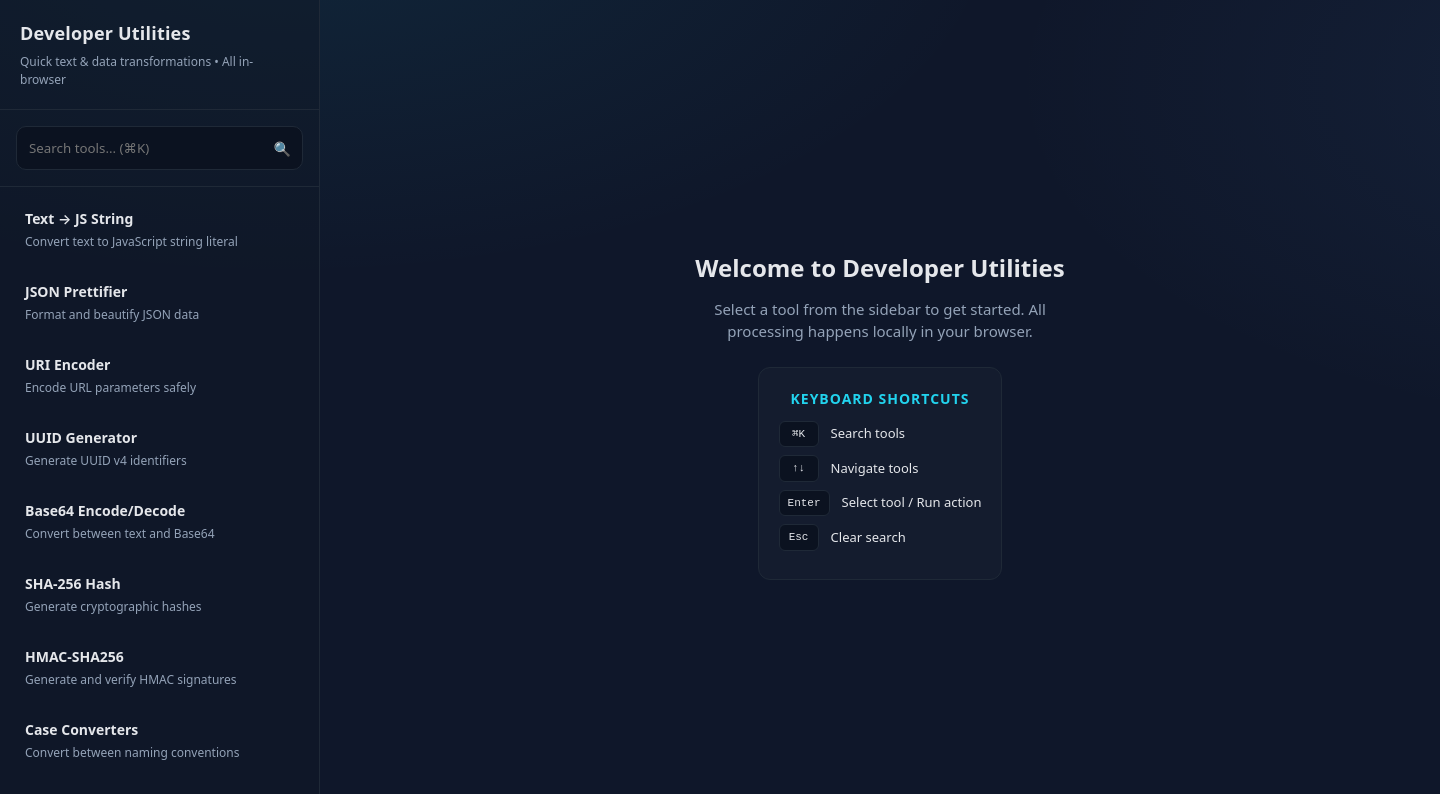
Test case: App › opens tool when clicked
What coordinates should you click on to do the following:
click the heading "JSON Prettifier"
I would click on:
 (76, 292)
Its box is x1=25 y1=282 x2=127 y2=301.
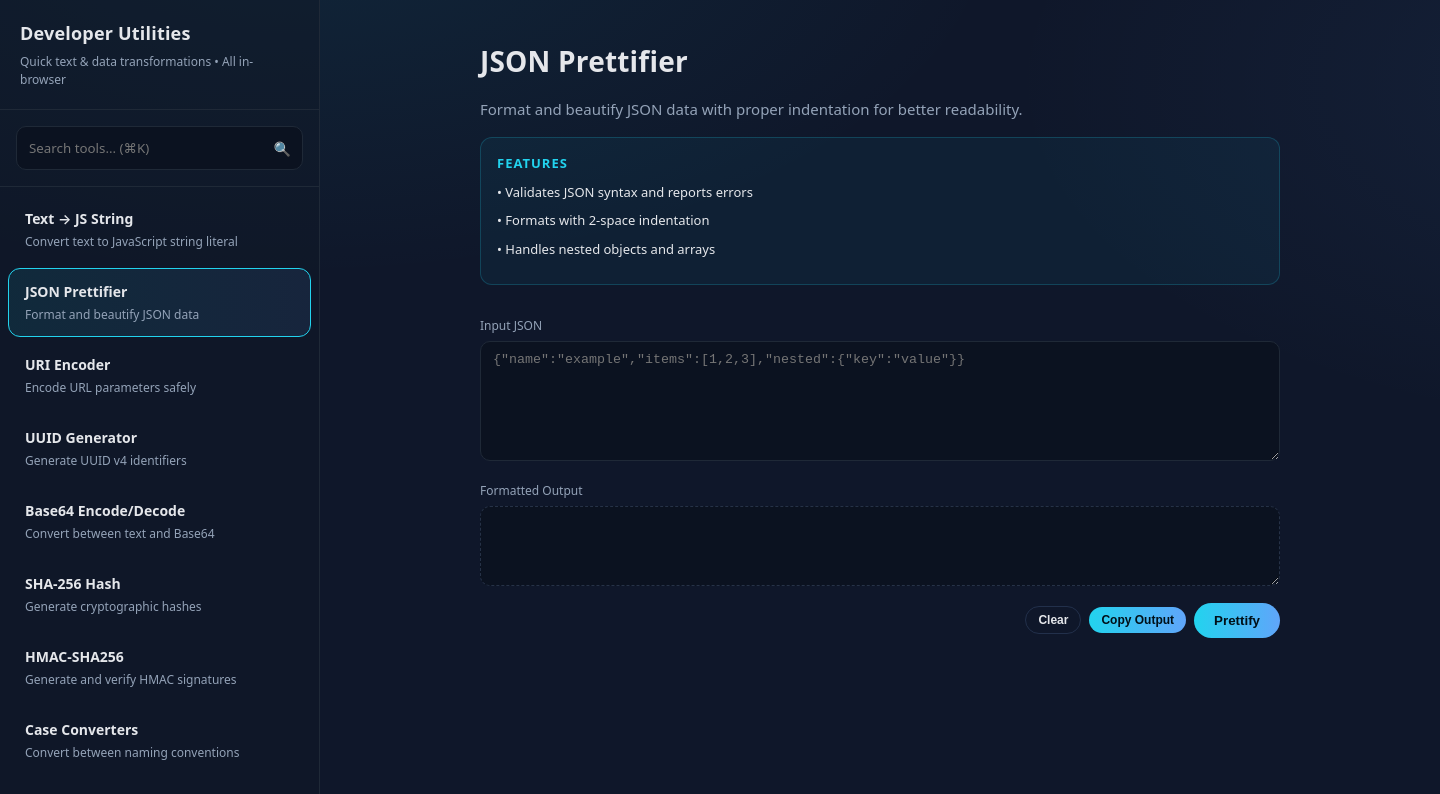
Expected: the text "Format and beautify JSON data with proper indentation for better readability." is shown, x1=480 y1=99 x2=1022 y2=119
